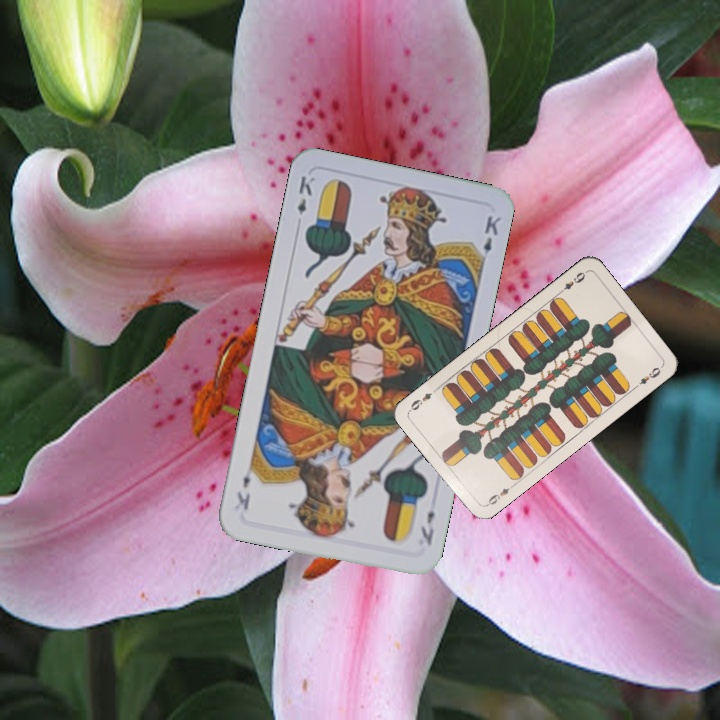E9: (554, 267, 589, 297), (481, 480, 517, 509)
EK: (293, 172, 317, 217), (416, 506, 437, 548)
